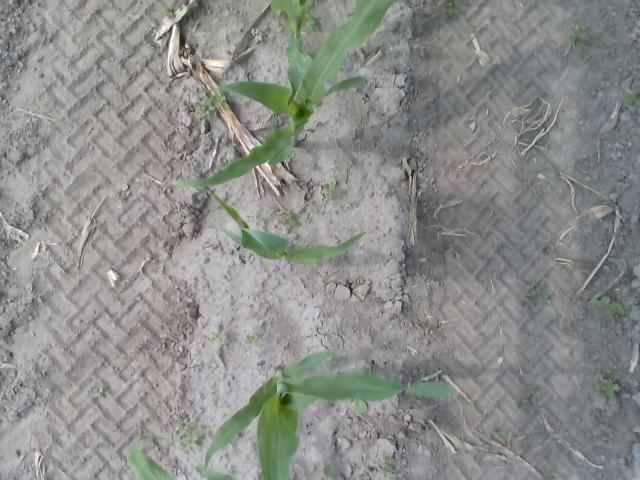Maize: (170, 0, 398, 187), (202, 352, 472, 480), (204, 185, 366, 267), (126, 434, 284, 480), (269, 0, 316, 105)
Weeds: (196, 90, 228, 119), (594, 296, 630, 319), (522, 281, 552, 308), (178, 424, 202, 451), (568, 25, 589, 50), (594, 377, 618, 398), (442, 0, 461, 22), (520, 390, 542, 408), (379, 456, 397, 478), (345, 397, 368, 414), (324, 180, 343, 199), (301, 10, 318, 30), (282, 210, 299, 229), (624, 88, 640, 106), (321, 465, 338, 480), (446, 243, 461, 259), (490, 426, 502, 440), (407, 393, 421, 405), (247, 332, 260, 344), (216, 202, 228, 215), (211, 332, 224, 343), (544, 470, 556, 480), (270, 117, 278, 132), (164, 7, 174, 18), (91, 388, 102, 398), (361, 364, 372, 374), (591, 34, 598, 48), (124, 191, 130, 196)
